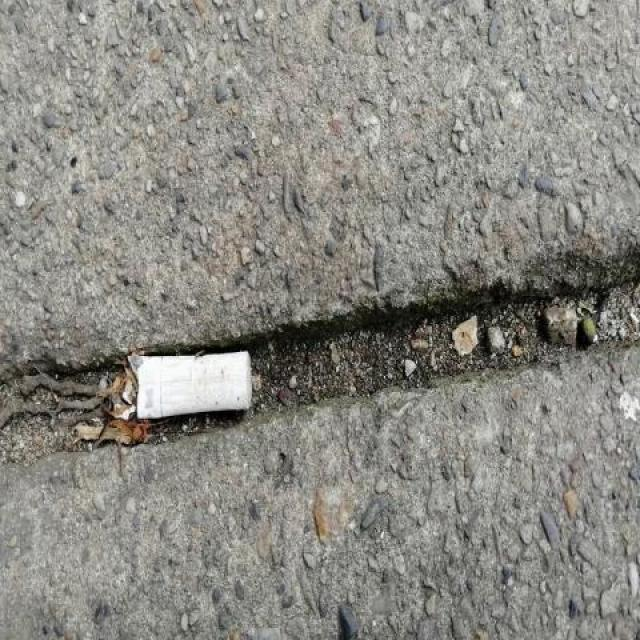non-organic waste: (122, 348, 257, 423)
